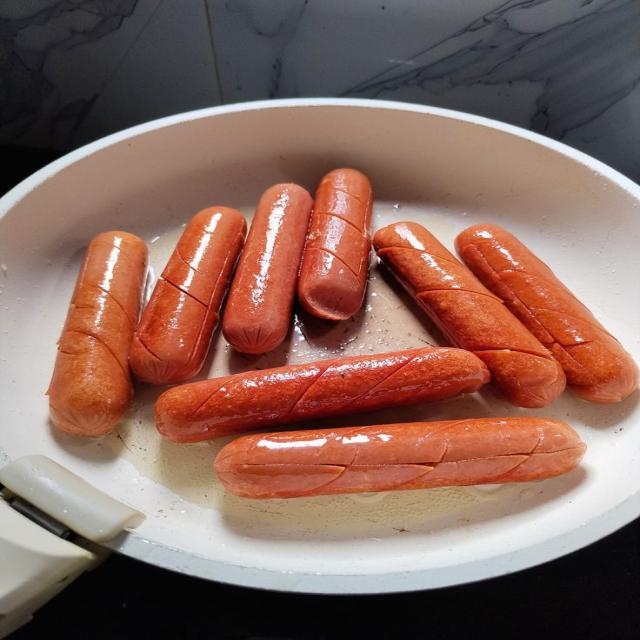sausage: (374, 222, 566, 407), (456, 224, 638, 403), (156, 348, 489, 442), (215, 417, 586, 499), (130, 207, 246, 384), (47, 232, 146, 436), (222, 184, 312, 354), (298, 169, 372, 320)
